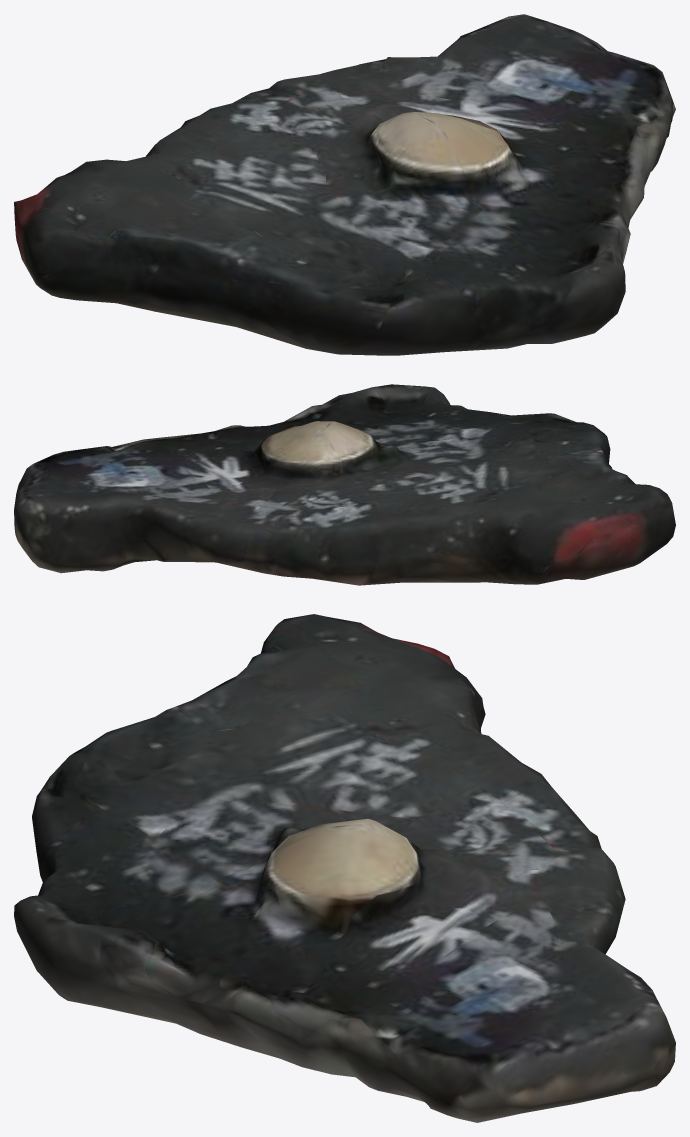
The model's file is hall.glb.
The picture shows the model from 3 angles, top to bottom: view 1: azimuth 30°, elevation 25°; view 2: azimuth 150°, elevation 25°; view 3: azimuth 270°, elevation 25°; orthographic projection. The views are drawn at different scales.
Size of the model in its own units: 0.7576 by 0.1406 by 0.5387.
Materials: 1 (1 with a texture image).
